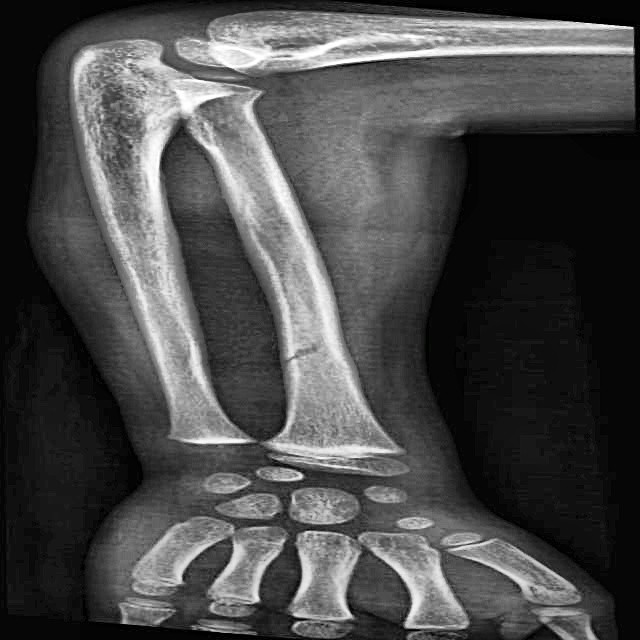Oblique Displaced: (247, 305, 377, 378)
